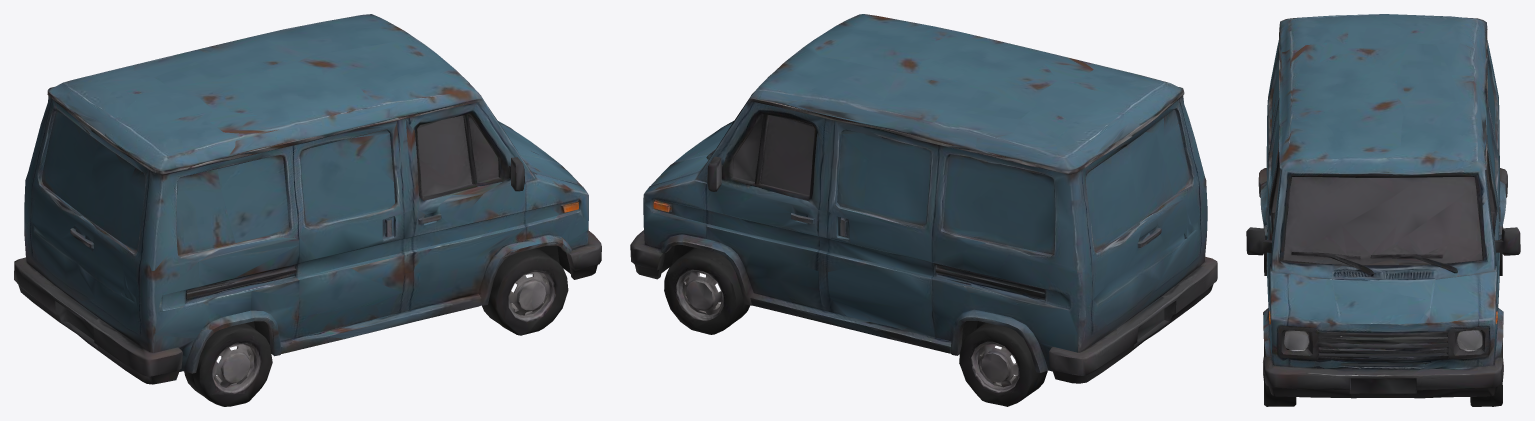
File: van_idle.glb
3 views of the same model, side by side, from view 1: azimuth 30°, elevation 25°; view 2: azimuth 150°, elevation 25°; view 3: azimuth 270°, elevation 25° (orthographic). The views are drawn at different scales.
Parts seen in each view (by area): view 1: tripo_node_2ce0511d-2bce-4963-b6b8-f26d60497653; view 2: tripo_node_2ce0511d-2bce-4963-b6b8-f26d60497653; view 3: tripo_node_2ce0511d-2bce-4963-b6b8-f26d60497653.
Part boxes in pixels (left/top/right/bottom): tripo_node_2ce0511d-2bce-4963-b6b8-f26d60497653: left=14, top=14, right=601, bottom=406; tripo_node_2ce0511d-2bce-4963-b6b8-f26d60497653: left=630, top=14, right=1217, bottom=406; tripo_node_2ce0511d-2bce-4963-b6b8-f26d60497653: left=1246, top=14, right=1520, bottom=406.
Size of the model in its own units: 5 by 2.61 by 2.76.
1 material, 1 textured.
